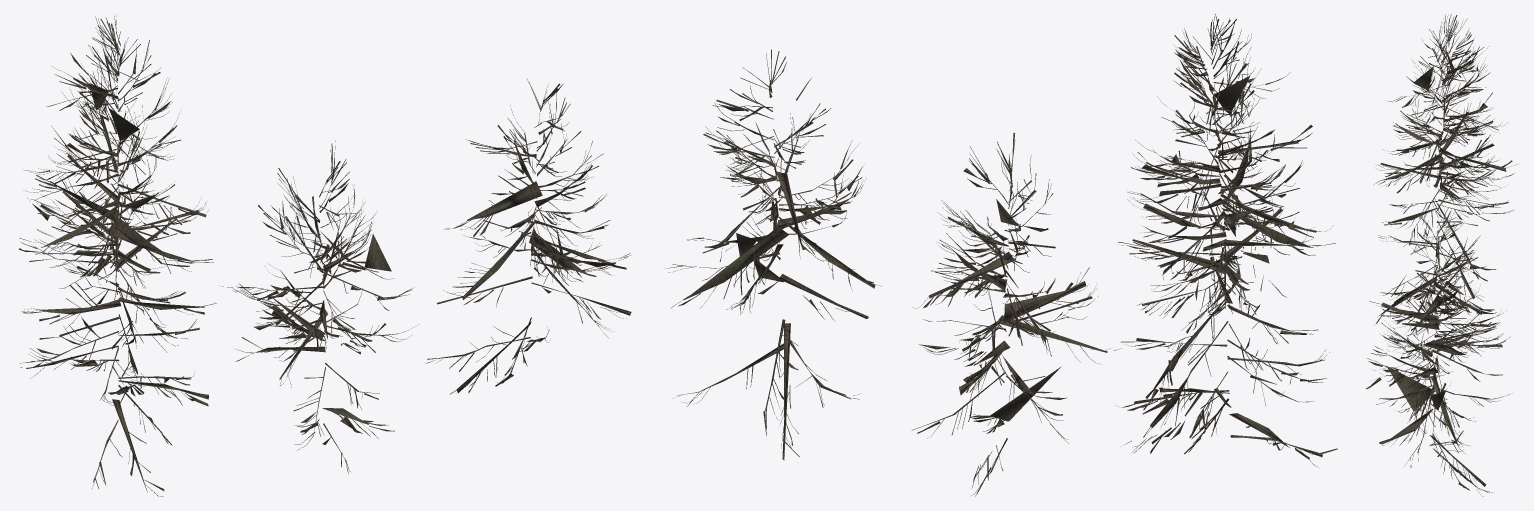
File: ph_fir_tree_01.glb
The picture shows the model from 3 angles, left to right: view 1: azimuth 30°, elevation 25°; view 2: azimuth 150°, elevation 25°; view 3: azimuth 270°, elevation 25°; orthographic projection. The views are drawn at different scales.
Visible parts, largest first — view 1: fir_tree_01_a_LOD0; view 2: fir_tree_01_a_LOD0; view 3: fir_tree_01_a_LOD0.
Part boxes in pixels (x1=…): fir_tree_01_a_LOD0: x1=19, y1=14, x2=631, y2=496; fir_tree_01_a_LOD0: x1=664, y1=14, x2=1337, y2=496; fir_tree_01_a_LOD0: x1=1366, y1=14, x2=1517, y2=496.
Bounding box in the file's own units: 17.71 × 14.22 × 5.55.
Materials: 1 (1 with a texture image).
